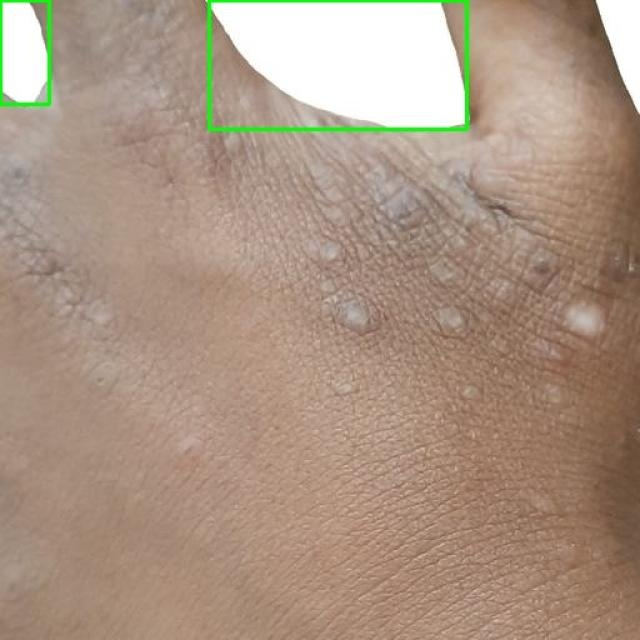Scabies: (209, 0, 466, 129), (0, 0, 49, 104)
